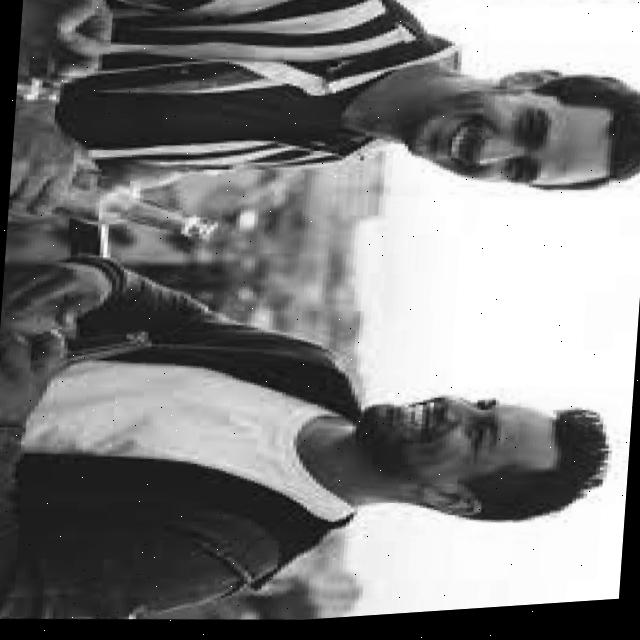happy: (343, 48, 640, 229)
